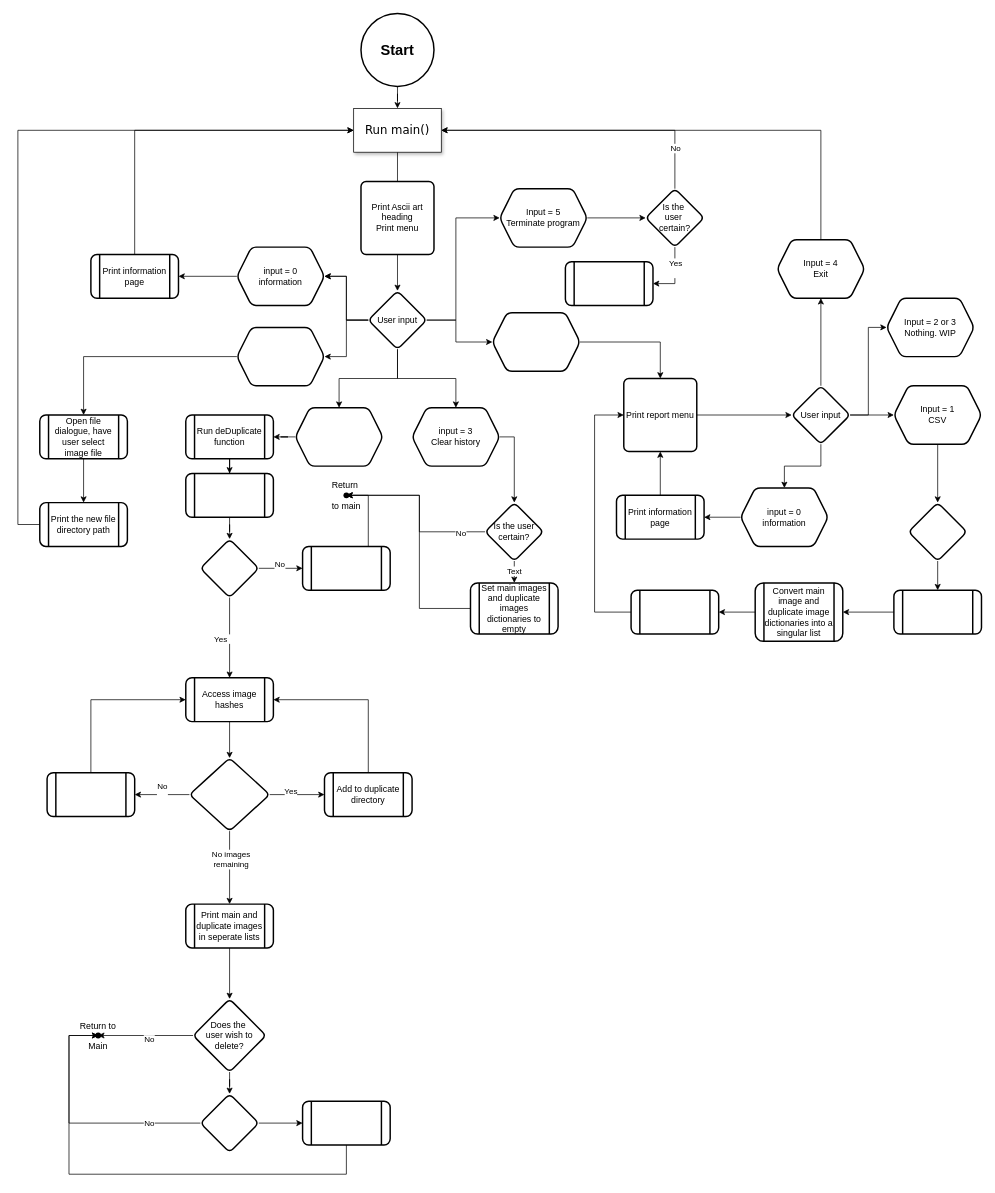
This 995x1193 diagram has some shape labels left out. The shapes that lost their labels are listed below. From the top down, each one's centre as x and y in pixels, then its label:
At point 608,283: "Terminate program".
At point 280,356: "input = 1 Set folder destination".
At point 535,342: "Input = 4 Export report".
At point 338,436: "input = 2 deDuplicate".
At point 229,495: "Access the set path".
At point 937,531: "Name report file".
At point 229,568: "Successful?".
At point 346,568: "Inform user of failure".
At point 674,611: "Write list to newly created report file".
At point 937,611: "Append .csv to file name. Create file".
At point 90,794: "Add to main image directory".
At point 229,794: "Is it in the main image dictionary?".
At point 229,1123: "Is the user sure?".
At point 346,1122: "Delete images".
